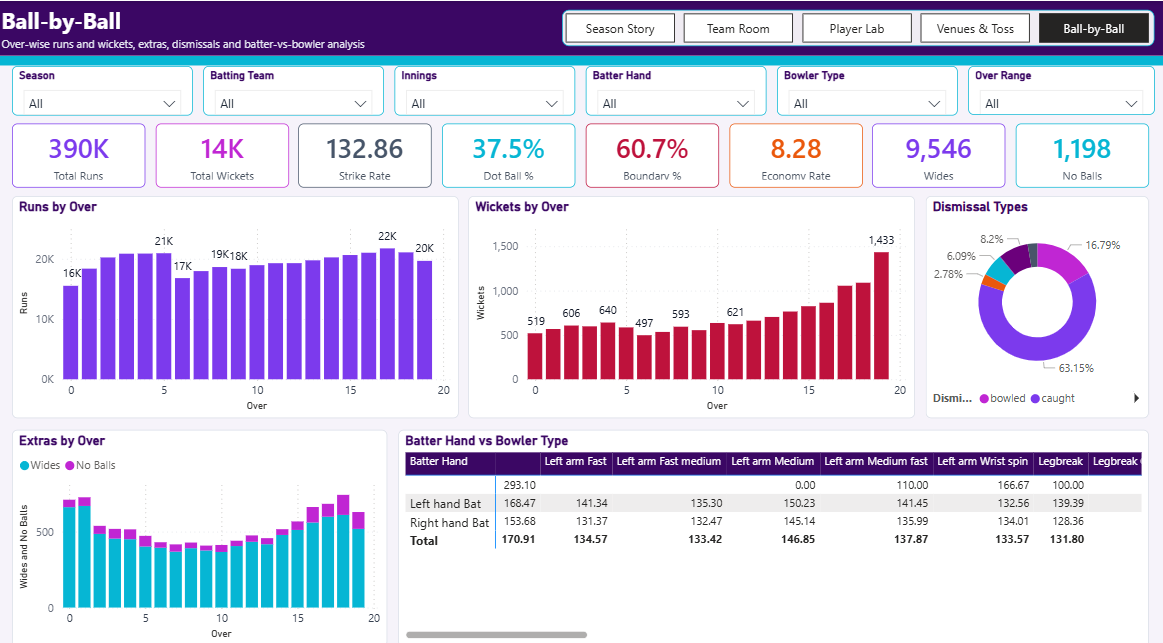

Layout of this report page (visuals, bound fields, positions):
{"tool":"powerbi","page":{"name":"Ball-by-Ball","canvas":[1280,720],"ordinal":4},"visuals":[{"type":"textbox","box":[0,0,1280,60],"z":1000},{"type":"textbox","box":[0,60,1280,4],"z":2000},{"type":"pageNavigator","box":[620,10,650,40],"z":3000},{"type":"slicer","title":"Season","fields":{"Values":["Dim Season.season"]},"box":[16,72,198,54],"z":4000},{"type":"slicer","title":"Batting Team","fields":{"Values":["Dim Team.team_name"]},"box":[226,72,198,54],"z":5000},{"type":"slicer","title":"Innings","fields":{"Values":["Fact Ball.innings"]},"box":[436,72,198,54],"z":6000},{"type":"slicer","title":"Batter Hand","fields":{"Values":["Fact Ball.batsman_type"]},"box":[646,72,198,54],"z":7000},{"type":"slicer","title":"Bowler Type","fields":{"Values":["Fact Ball.bowler_type"]},"box":[856,72,198,54],"z":8000},{"type":"slicer","title":"Over Range","fields":{"Values":["Fact Ball.over_number"]},"box":[1066.2,71.4,204.5,53.5],"z":9000},{"type":"card","fields":{"Values":["_Measures.Total Runs"]},"box":[16,134,146,70],"z":10000},{"type":"card","fields":{"Values":["_Measures.Total Wickets"]},"box":[174,134,146,70],"z":11000},{"type":"card","fields":{"Values":["_Measures.Strike Rate"]},"box":[331,134,146,70],"z":12000},{"type":"card","fields":{"Values":["_Measures.Batting Dot Ball %"]},"box":[488,134,146,70],"z":13000},{"type":"card","fields":{"Values":["_Measures.Boundary %"]},"box":[646,134,146,70],"z":14000},{"type":"card","fields":{"Values":["_Measures.Economy Rate"]},"box":[804,134,146,70],"z":15000},{"type":"card","fields":{"Values":["_Measures.Wides"]},"box":[961,134,146,70],"z":16000},{"type":"card","fields":{"Values":["_Measures.No Balls"]},"box":[1118,134,146,70],"z":17000},{"type":"clusteredColumnChart","title":"Runs by Over","fields":{"Category":["Fact Ball.over_number"],"Y":["_Measures.Total Runs"]},"box":[16,214,490,244],"z":18000},{"type":"clusteredColumnChart","title":"Wickets by Over","fields":{"Category":["Fact Ball.over_number"],"Y":["_Measures.Total Wickets"]},"box":[518,214,490,244],"z":19000},{"type":"donutChart","title":"Dismissal Types","fields":{"Category":["Fact Ball.wicket_kind"],"Y":["_Measures.Total Wickets"]},"box":[1020,214,245,244],"z":20000},{"type":"columnChart","title":"Extras by Over","fields":{"Category":["Fact Ball.over_number"],"Y":["_Measures.Wides","_Measures.No Balls"]},"box":[16,470,412,238],"z":21000},{"type":"pivotTable","title":"Batter Hand vs Bowler Type","fields":{"Columns":["Fact Ball.bowler_type"],"Rows":["Fact Ball.batsman_type"],"Values":["_Measures.Strike Rate"]},"box":[440,470,824,238],"z":22000}]}

Visuals, with their boxes in screenshot pixels (x1, y1, x2, y2), scaled from the page's 1280x720 canvas onto the 1163x643 screenshot:
textbox: <region>0, 0, 1162, 54</region>
textbox: <region>0, 54, 1162, 57</region>
pageNavigator: <region>563, 9, 1154, 45</region>
"Season" slicer: <region>15, 64, 194, 113</region>
"Batting Team" slicer: <region>205, 64, 385, 113</region>
"Innings" slicer: <region>396, 64, 576, 113</region>
"Batter Hand" slicer: <region>587, 64, 767, 113</region>
"Bowler Type" slicer: <region>778, 64, 958, 113</region>
"Over Range" slicer: <region>969, 64, 1155, 112</region>
card - _Measures.Total Runs: <region>15, 120, 147, 182</region>
card - _Measures.Total Wickets: <region>158, 120, 291, 182</region>
card - _Measures.Strike Rate: <region>301, 120, 433, 182</region>
card - _Measures.Batting Dot Ball %: <region>443, 120, 576, 182</region>
card - _Measures.Boundary %: <region>587, 120, 720, 182</region>
card - _Measures.Economy Rate: <region>731, 120, 863, 182</region>
card - _Measures.Wides: <region>873, 120, 1006, 182</region>
card - _Measures.No Balls: <region>1016, 120, 1148, 182</region>
"Runs by Over" clusteredColumnChart: <region>15, 191, 460, 409</region>
"Wickets by Over" clusteredColumnChart: <region>471, 191, 916, 409</region>
"Dismissal Types" donutChart: <region>927, 191, 1149, 409</region>
"Extras by Over" columnChart: <region>15, 420, 389, 632</region>
"Batter Hand vs Bowler Type" pivotTable: <region>400, 420, 1148, 632</region>
